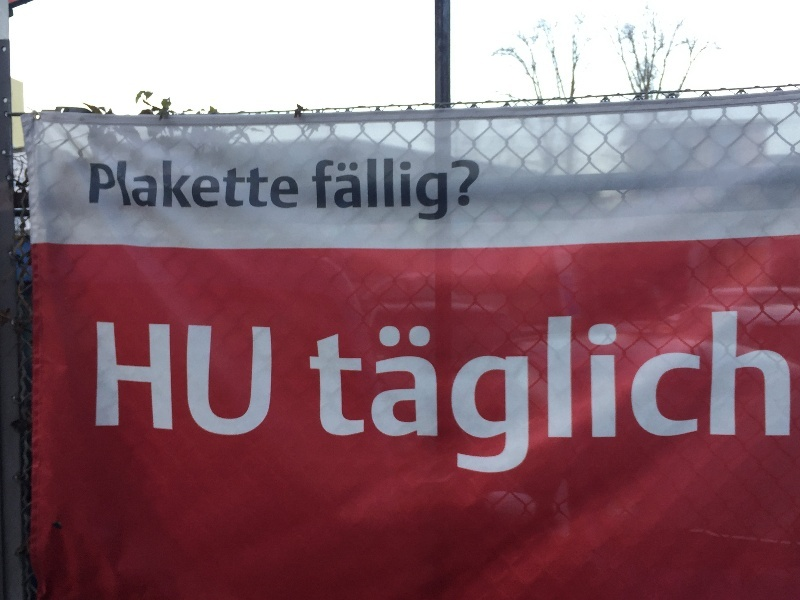text: (305, 307, 320, 480), (321, 307, 336, 480), (337, 307, 352, 480), (353, 307, 368, 480), (369, 307, 384, 480), (385, 307, 400, 480), (401, 307, 416, 480), (417, 307, 432, 480), (433, 307, 448, 480), (449, 307, 464, 480), (465, 307, 480, 480), (481, 307, 496, 480), (497, 307, 512, 480), (513, 307, 528, 480), (529, 307, 544, 480), (545, 307, 560, 480), (561, 307, 576, 480), (577, 307, 592, 480), (593, 307, 608, 480), (609, 307, 624, 480), (625, 307, 640, 480), (641, 307, 656, 480), (657, 307, 672, 480), (673, 307, 688, 480), (689, 307, 704, 480), (705, 307, 720, 480), (721, 307, 736, 480), (737, 307, 752, 480), (753, 307, 768, 480), (769, 307, 784, 480), (97, 320, 112, 442), (113, 320, 128, 442), (129, 320, 144, 442), (145, 320, 160, 442), (161, 320, 176, 442), (177, 320, 192, 442), (193, 320, 208, 442), (209, 320, 224, 442), (225, 320, 240, 442), (241, 320, 256, 442), (257, 320, 272, 442), (785, 307, 795, 480), (273, 320, 282, 442), (321, 155, 336, 223), (337, 155, 352, 223), (353, 155, 368, 223), (369, 155, 384, 223), (385, 155, 400, 223), (401, 155, 416, 223), (417, 155, 432, 223), (433, 155, 448, 223), (449, 155, 464, 223), (465, 155, 480, 223), (97, 156, 112, 213), (113, 156, 128, 213), (129, 156, 144, 213), (145, 156, 160, 213), (161, 156, 176, 213), (177, 156, 192, 213), (193, 156, 208, 213), (209, 156, 224, 213), (225, 156, 240, 213), (241, 156, 256, 213), (257, 156, 272, 213), (273, 156, 288, 213), (289, 156, 303, 213), (309, 155, 320, 223), (300, 307, 304, 480), (87, 156, 96, 213), (481, 155, 485, 223), (95, 320, 96, 442)
